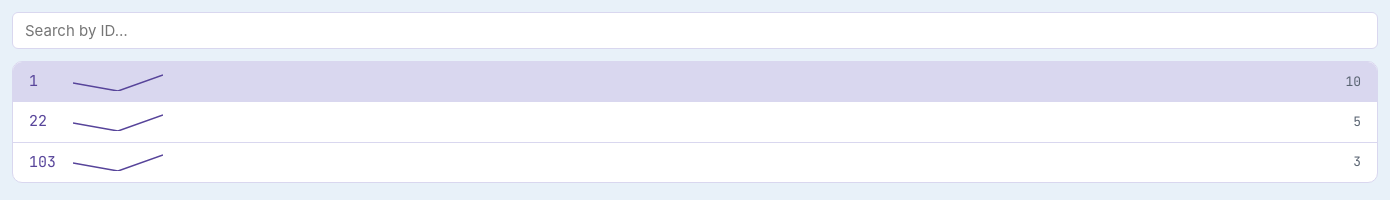
Test: UserList › shows "No users match." when the filter matches nothing
In the search field named "Search users": (695, 30) [12,12,1378,49], type "999"
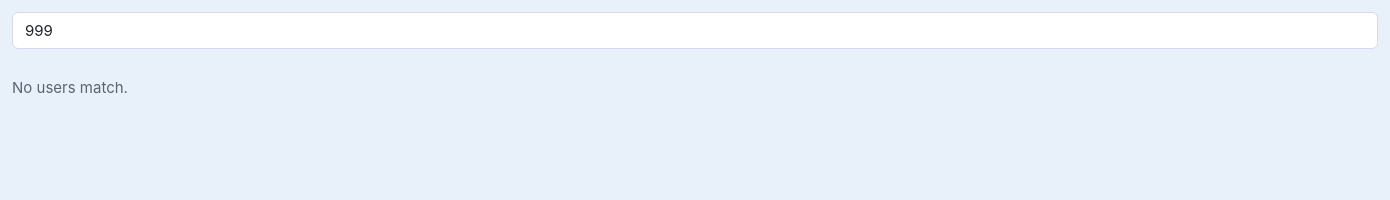
expect the text "No users match." is shown: met, box [12,78,128,97]
